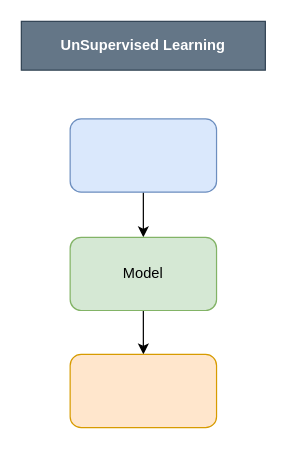
Some shapes in this 287 by 449 pixel diagram are drawn without their labels. Here are the shapes that lost their labels. From the top down, the centre of each, then its label:
point 143,155: Input
point 143,390: Prediction
